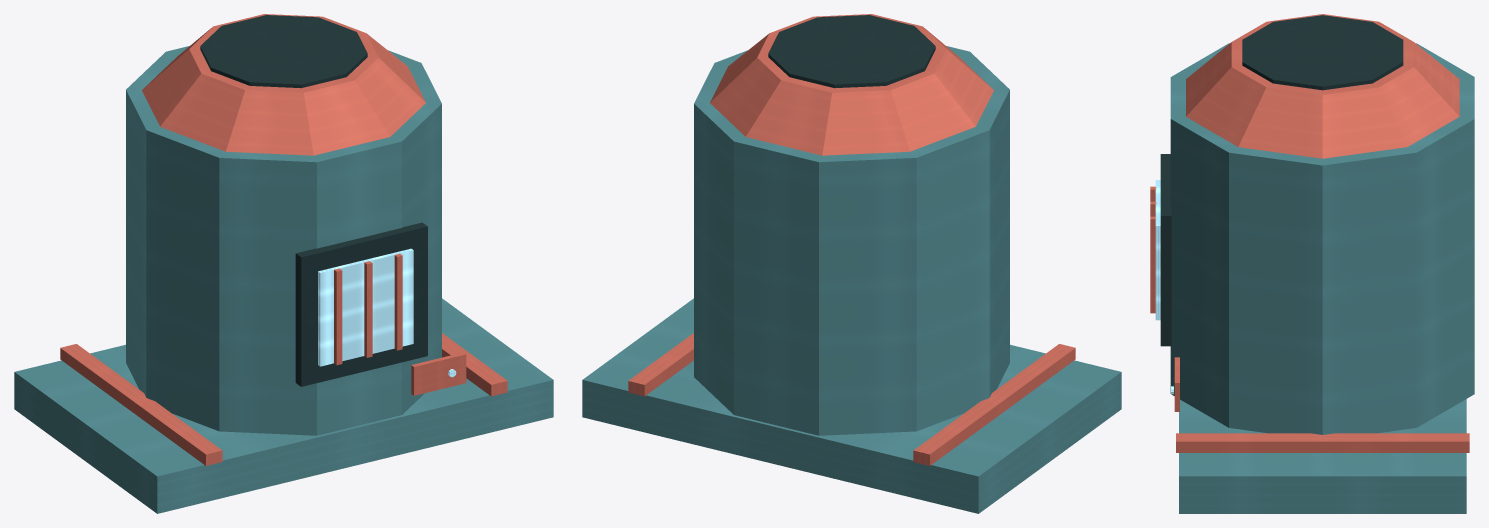
The model's file is atlas100-s080-a01.lod1.glb.
3 renders of one model, left to right at view 1: azimuth 30°, elevation 25°; view 2: azimuth 150°, elevation 25°; view 3: azimuth 270°, elevation 25°, orthographic.
Visible parts, largest first — view 1: atlas100-s080-a01:part-003, atlas100-s080-a01:part-000, atlas100-s080-a01:part-004, atlas100-s080-a01:part-005, atlas100-s080-a01:part-006, atlas100-s080-a01:part-007, atlas100-s080-a01:part-001, atlas100-s080-a01:part-011, atlas100-s080-a01:part-002, atlas100-s080-a01:part-008, atlas100-s080-a01:part-010, atlas100-s080-a01:part-009; view 2: atlas100-s080-a01:part-003, atlas100-s080-a01:part-000, atlas100-s080-a01:part-004, atlas100-s080-a01:part-005, atlas100-s080-a01:part-001, atlas100-s080-a01:part-002; view 3: atlas100-s080-a01:part-003, atlas100-s080-a01:part-004, atlas100-s080-a01:part-000, atlas100-s080-a01:part-005, atlas100-s080-a01:part-002, atlas100-s080-a01:part-006, atlas100-s080-a01:part-007, atlas100-s080-a01:part-010.
Part boxes in pixels (x1,y1,x2,y2): atlas100-s080-a01:part-003: (126,46,441,435); atlas100-s080-a01:part-000: (14,298,553,513); atlas100-s080-a01:part-004: (142,14,425,155); atlas100-s080-a01:part-005: (200,15,367,88); atlas100-s080-a01:part-006: (295,222,427,386); atlas100-s080-a01:part-007: (318,248,413,366); atlas100-s080-a01:part-001: (60,344,222,465); atlas100-s080-a01:part-011: (411,352,466,395); atlas100-s080-a01:part-002: (442,333,507,396); atlas100-s080-a01:part-008: (334,268,342,365); atlas100-s080-a01:part-010: (394,253,402,350); atlas100-s080-a01:part-009: (364,261,372,357); atlas100-s080-a01:part-003: (694,46,1009,435); atlas100-s080-a01:part-000: (582,298,1121,513); atlas100-s080-a01:part-004: (710,14,993,155); atlas100-s080-a01:part-005: (768,15,935,88); atlas100-s080-a01:part-001: (913,344,1075,465); atlas100-s080-a01:part-002: (628,333,693,396); atlas100-s080-a01:part-003: (1170,43,1474,434); atlas100-s080-a01:part-004: (1186,14,1459,158); atlas100-s080-a01:part-000: (1179,399,1466,513); atlas100-s080-a01:part-005: (1242,15,1403,90); atlas100-s080-a01:part-002: (1176,433,1469,452); atlas100-s080-a01:part-006: (1160,154,1171,346); atlas100-s080-a01:part-007: (1155,180,1160,320); atlas100-s080-a01:part-010: (1150,216,1156,313).
Bounding box in the file's own units: 2.88 × 2.53 × 2.03.
4 materials, 4 textured.
